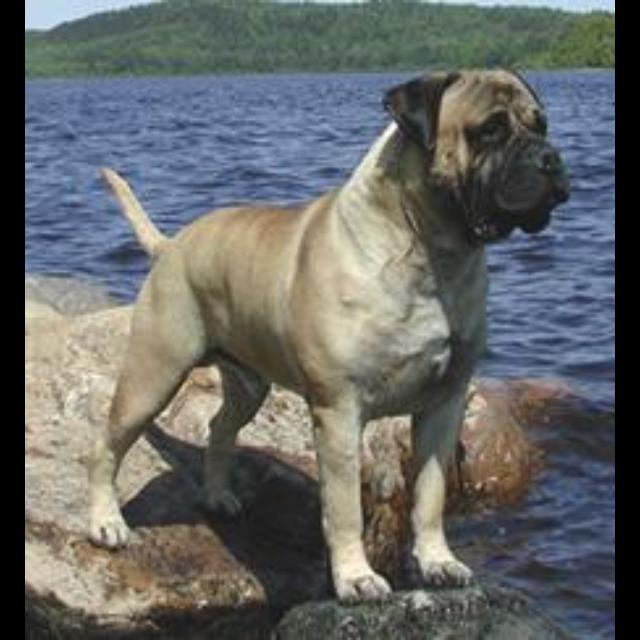bullmastiff: (85, 65, 572, 602)
